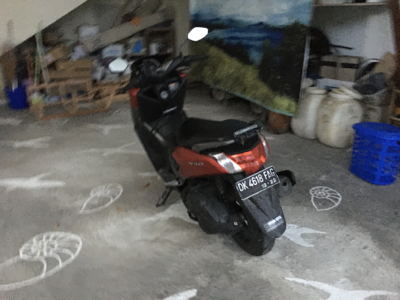moto: (125, 47, 296, 259)
